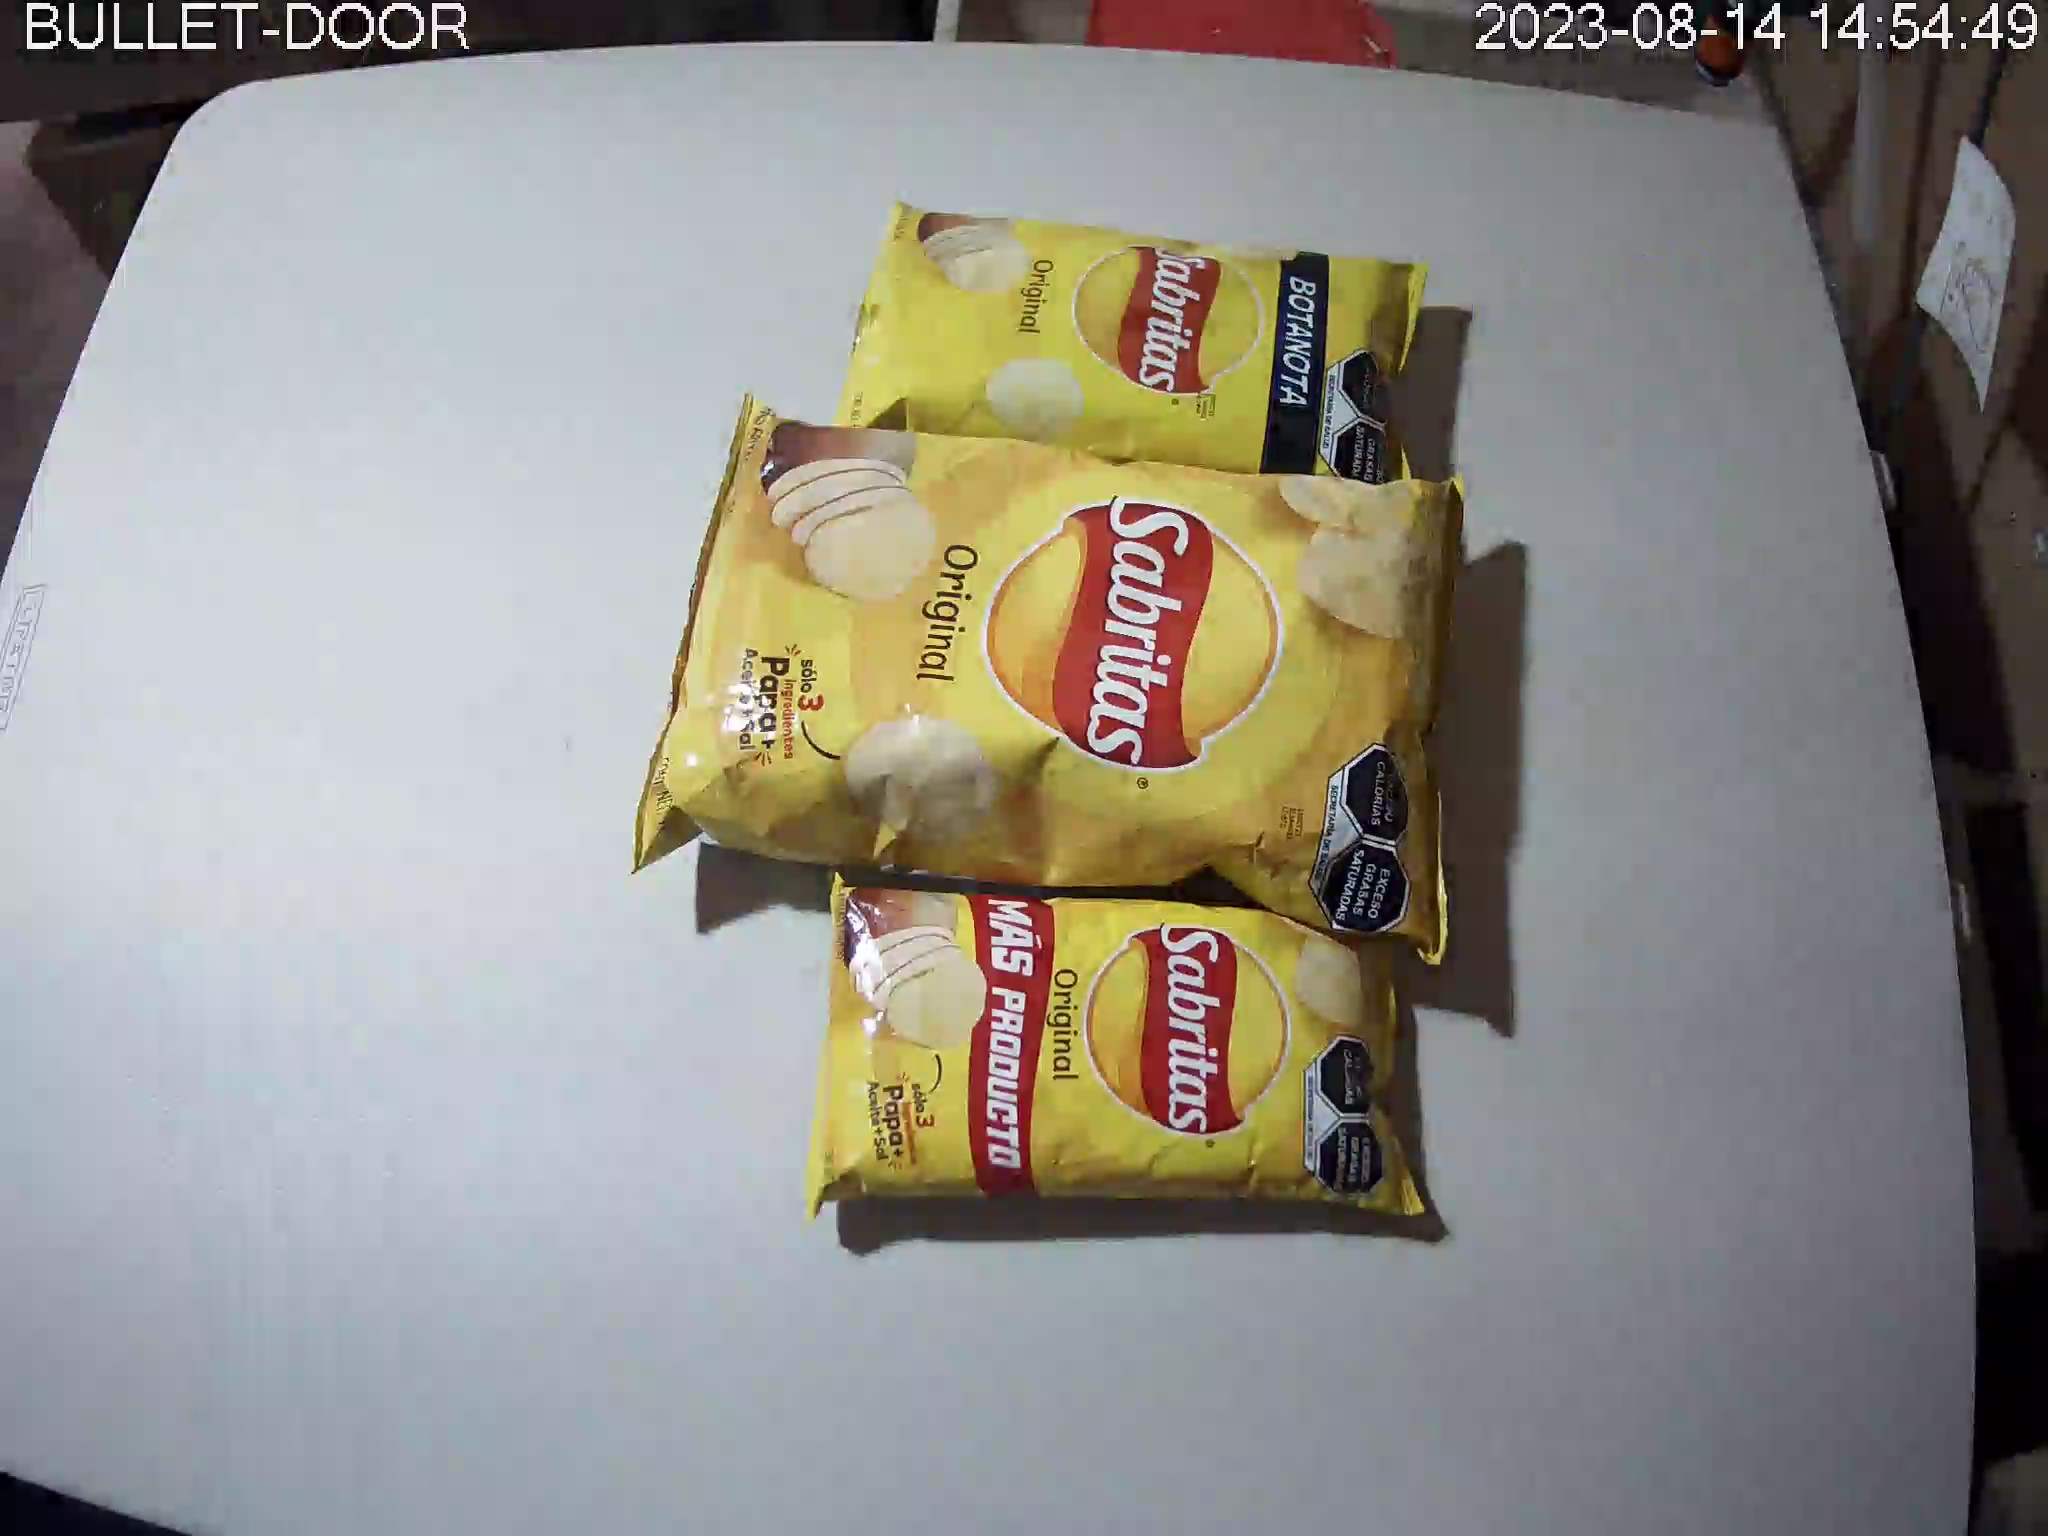Sabritas_160_F: (632, 392, 1467, 970)
Sabritas_45_F: (808, 870, 1429, 1223)
Sabritas_64_F: (826, 200, 1426, 492)
